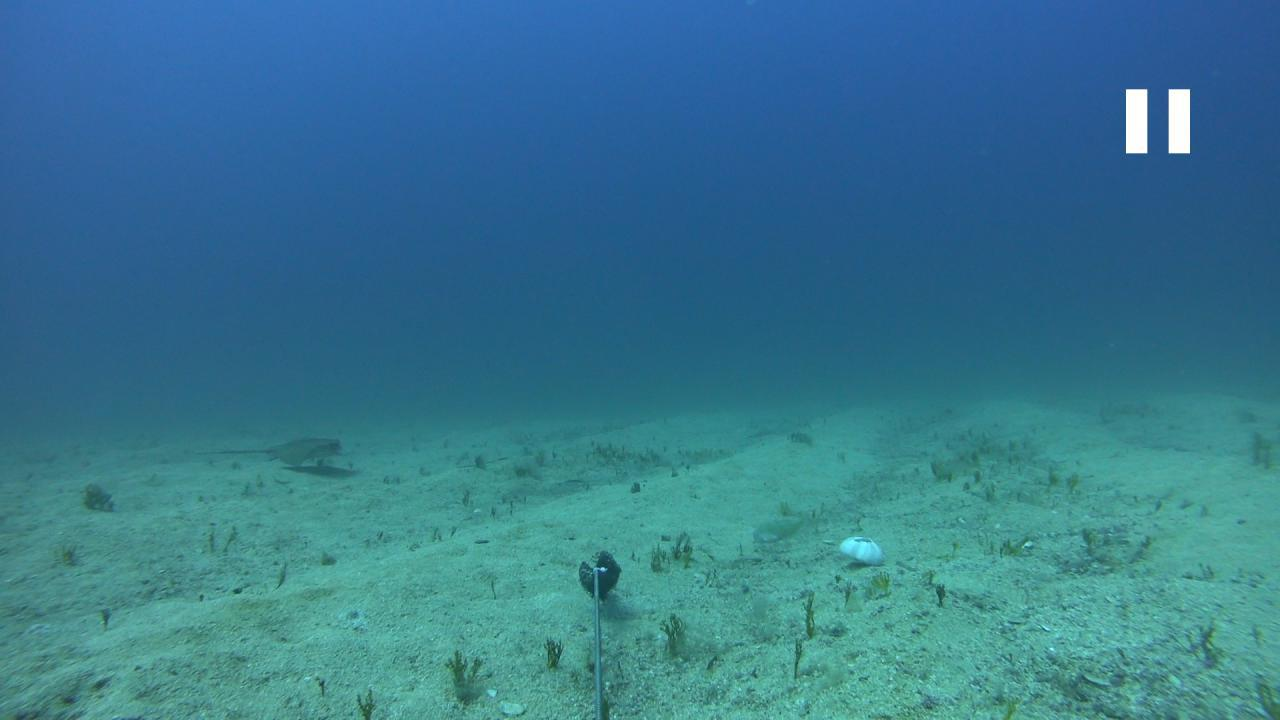dasyatis: (197, 436, 354, 470)
raor: (749, 507, 810, 546)
